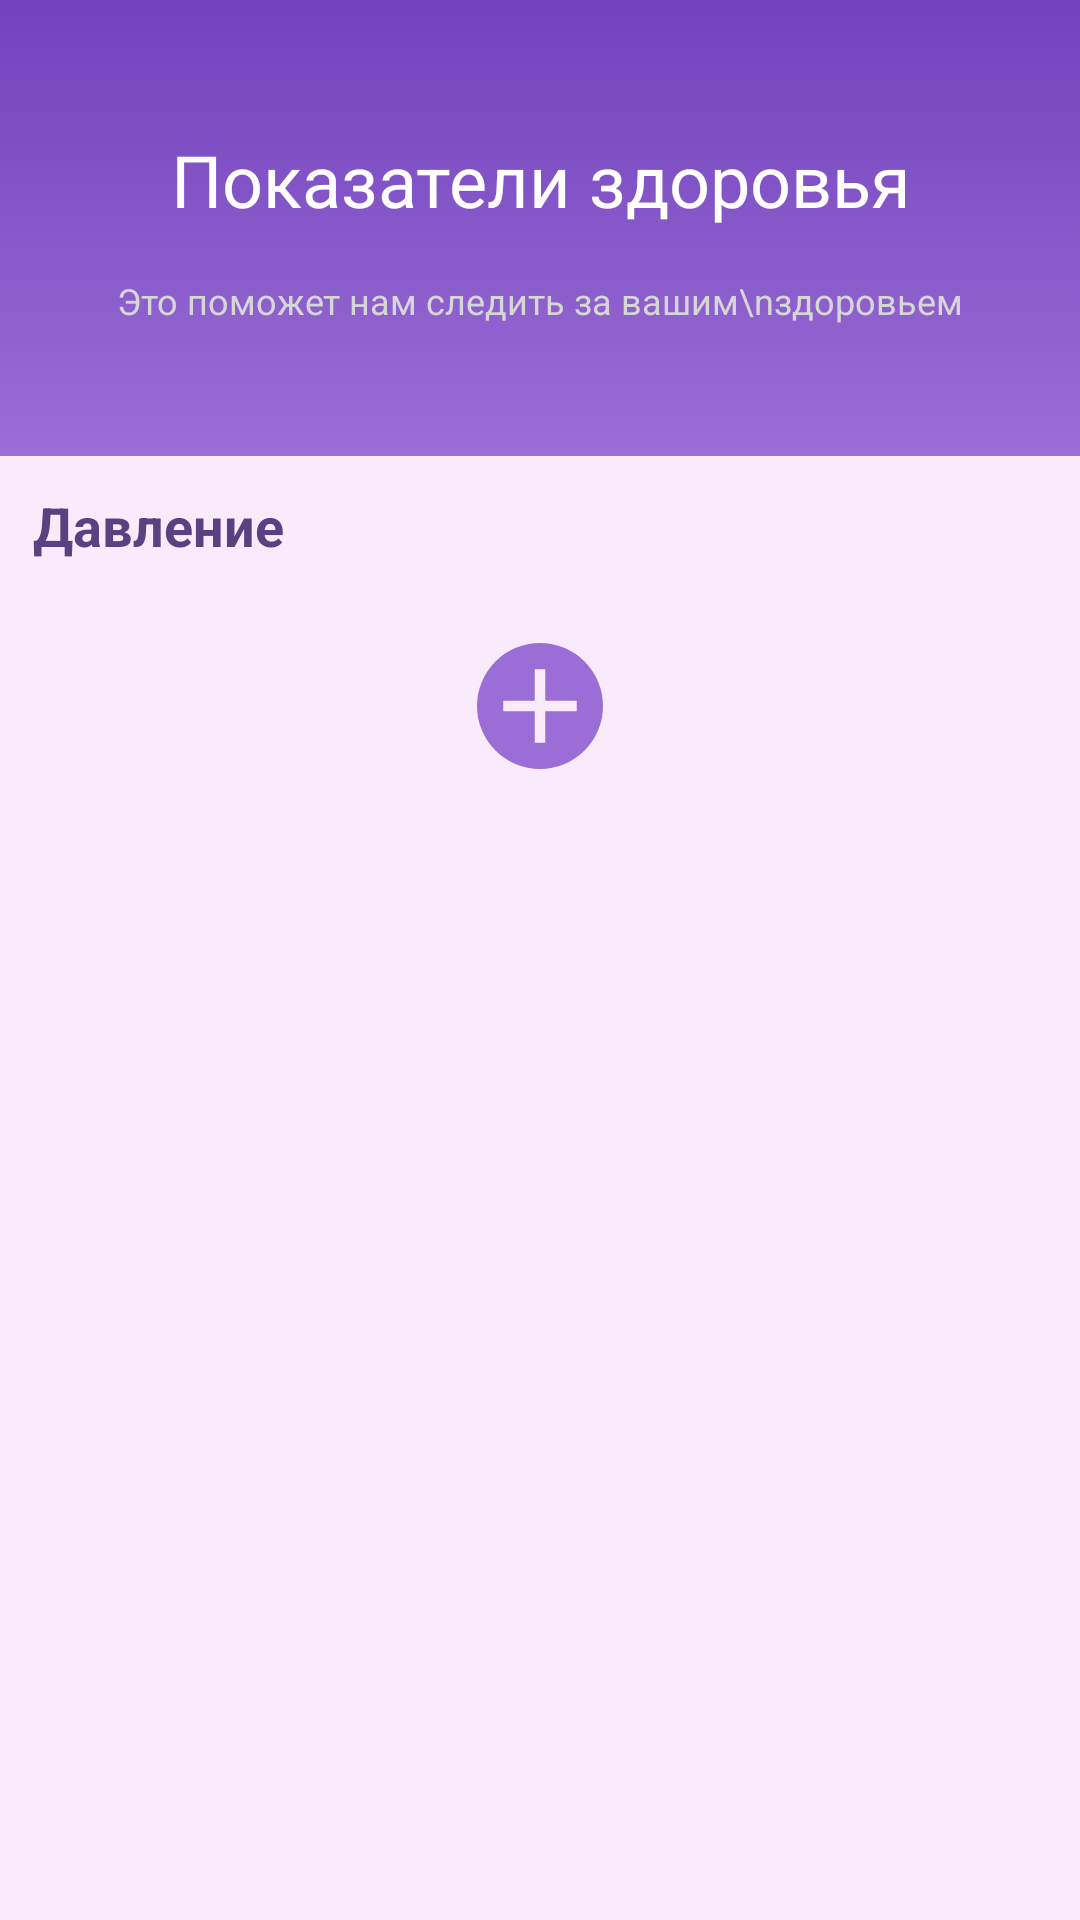

Screen size 1080x1920. Icon name, then its center in pixels as (x=x, y=y):
add: (x=540, y=706)
